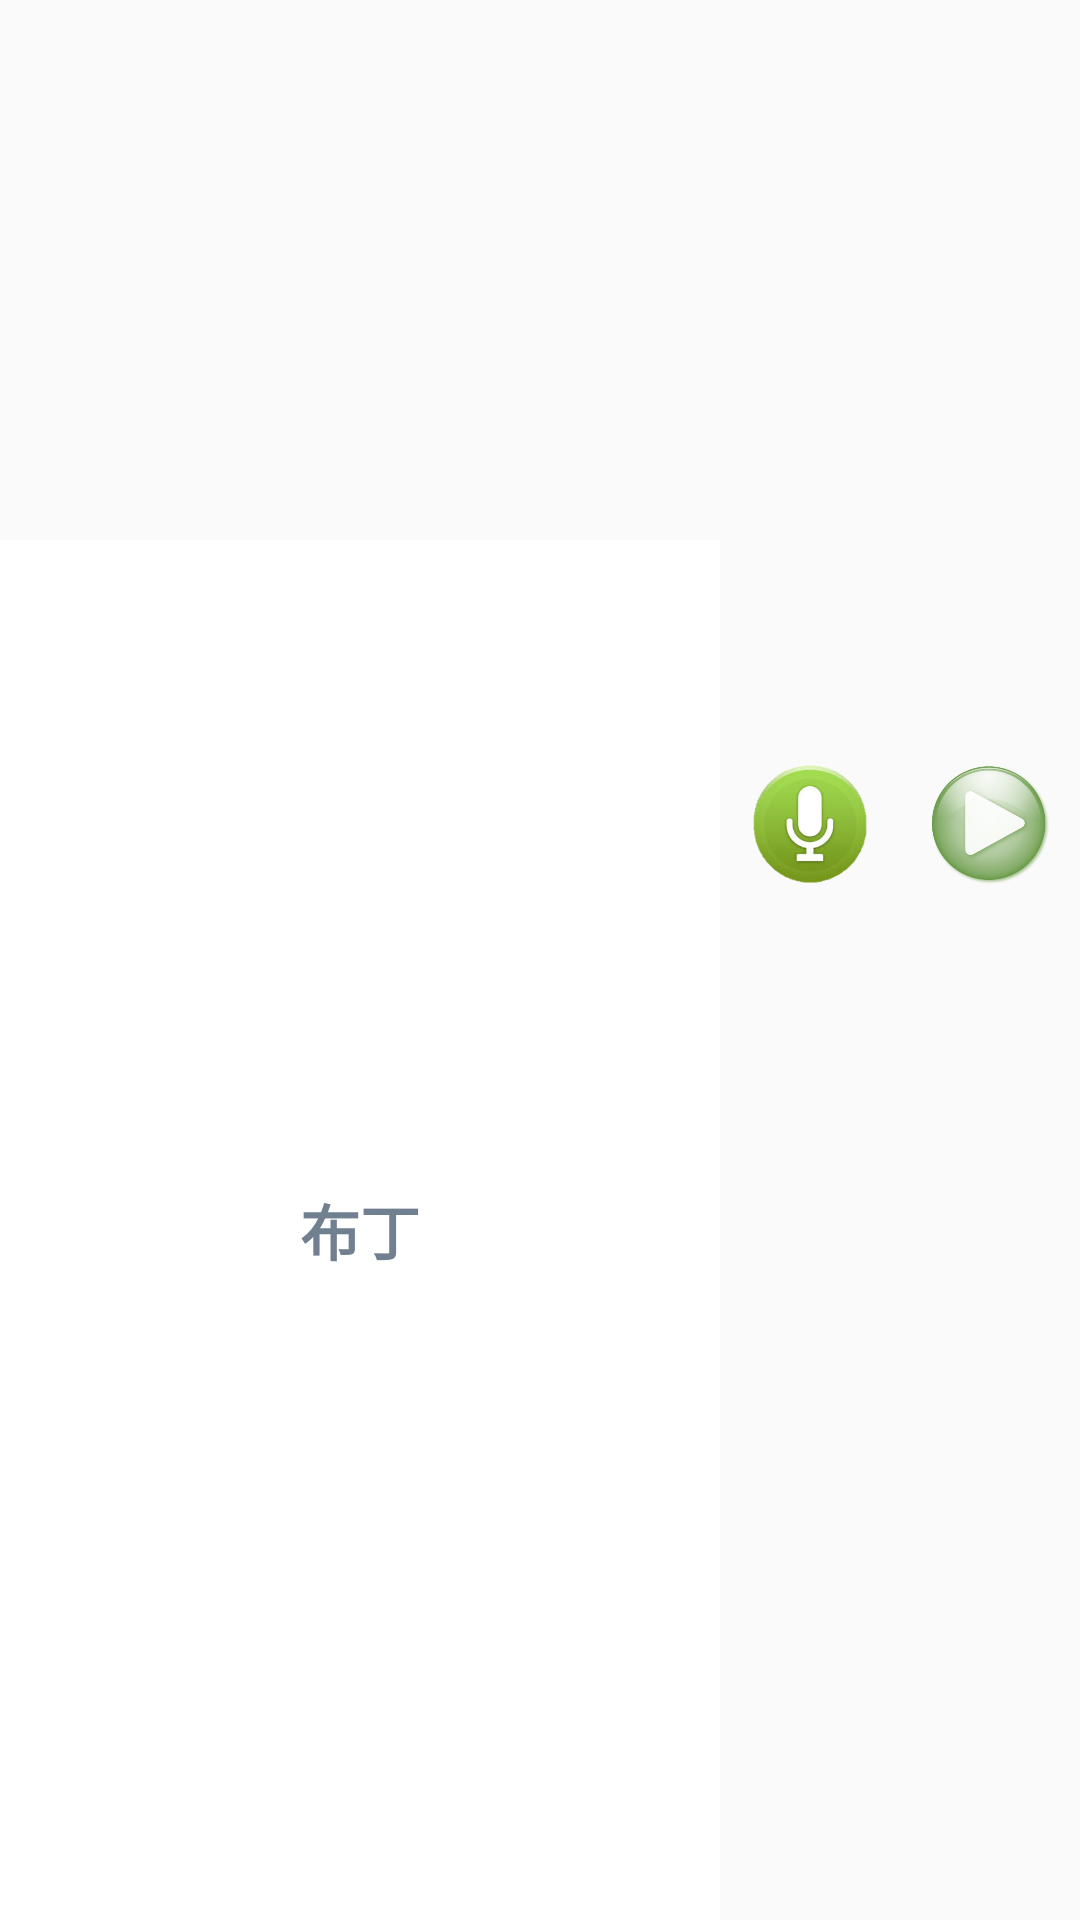

Locate icon controls on the screen. Image size 1080px x 1920px, boxes as rect(x1, y1, x2, y2).
play: rect(932, 766, 1048, 883)
recodestart: rect(753, 765, 867, 883)
